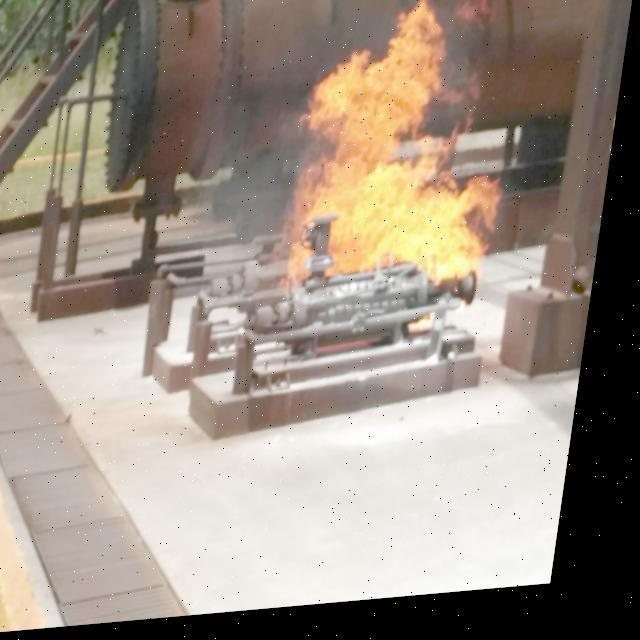Fire: (278, 0, 526, 311)
